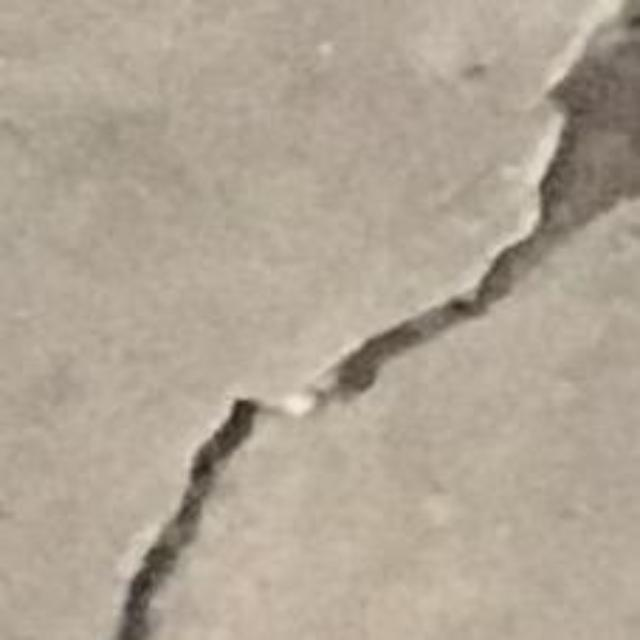crack: (116, 0, 639, 639)
